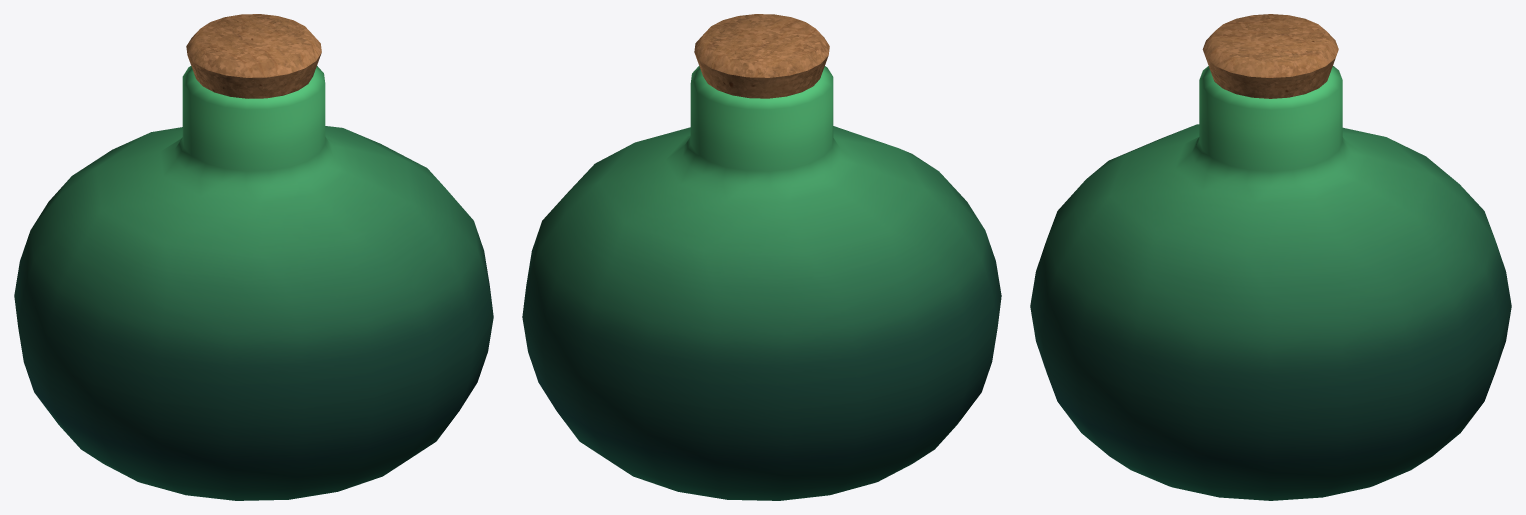
The model's file is SM_Potion_Props_Bottle_Huge_01_A.fbx.
The picture shows the model from 3 angles, left to right: view 1: azimuth 30°, elevation 25°; view 2: azimuth 150°, elevation 25°; view 3: azimuth 270°, elevation 25°; orthographic projection.
Visible parts, largest first — view 1: SM_Potion_Props_Bottle_Huge_01_A_LOD0; view 2: SM_Potion_Props_Bottle_Huge_01_A_LOD0; view 3: SM_Potion_Props_Bottle_Huge_01_A_LOD0.
Part boxes in pixels (bbox=[...]): SM_Potion_Props_Bottle_Huge_01_A_LOD0: bbox=[14, 14, 493, 500]; SM_Potion_Props_Bottle_Huge_01_A_LOD0: bbox=[522, 14, 1001, 500]; SM_Potion_Props_Bottle_Huge_01_A_LOD0: bbox=[1030, 14, 1511, 500].
Size of what is drawn, in the model's own units: 42.81 by 38.62 by 42.81.
